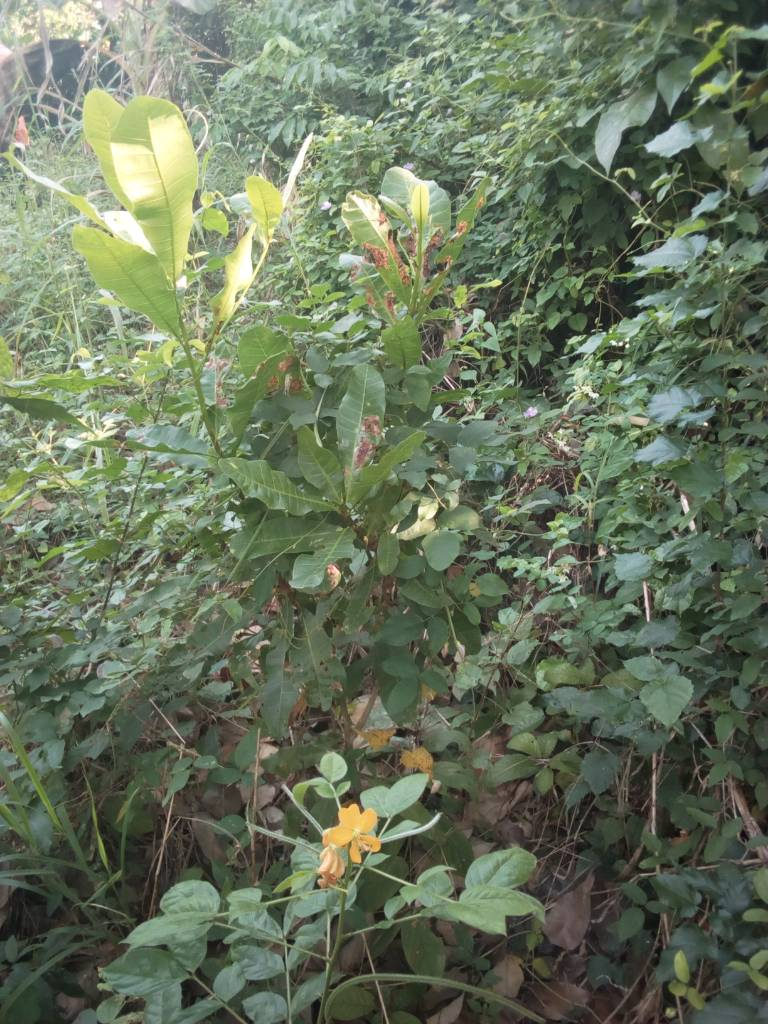Dysdercus wolkerii: (337, 186, 424, 321), (321, 366, 391, 502)
